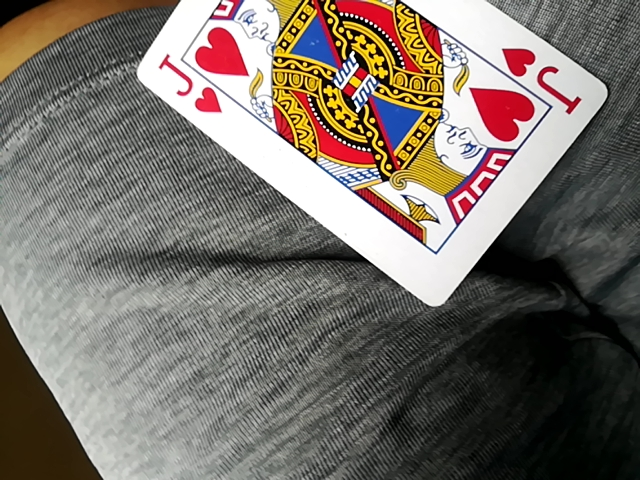hx j: (139, 3, 609, 310)
